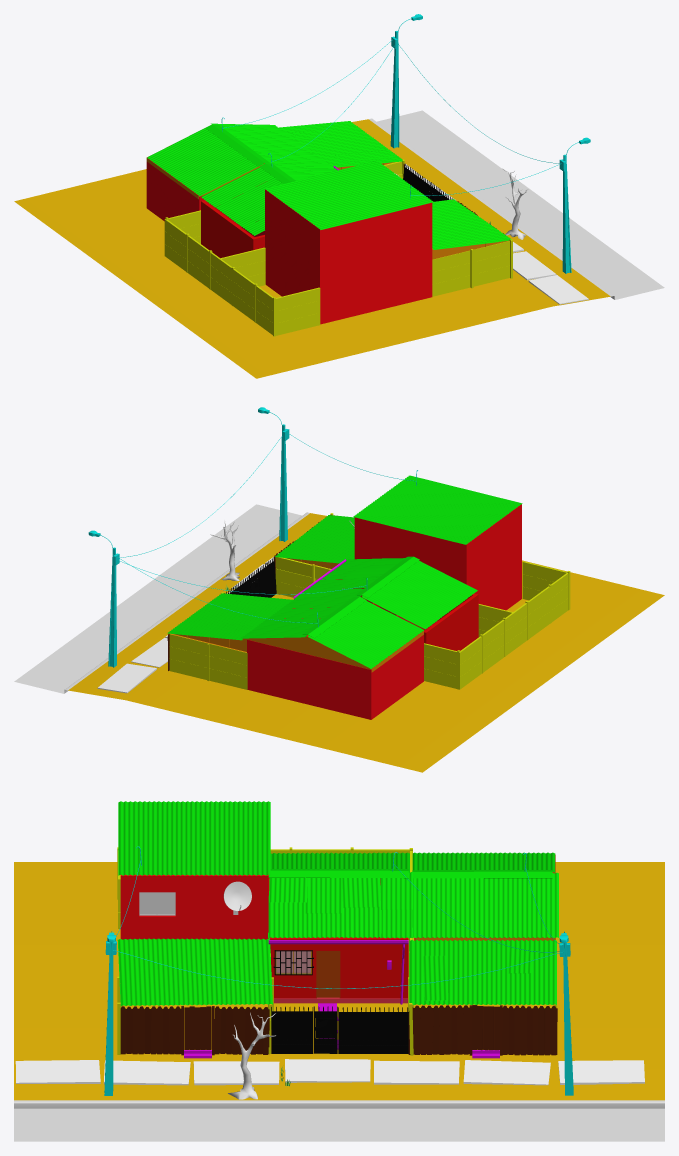
The model's file is DealerHouse1.fbx.
3 views of the same model, one above another, from view 1: azimuth 30°, elevation 25°; view 2: azimuth 150°, elevation 25°; view 3: azimuth 270°, elevation 25° (orthographic). The views are drawn at different scales.
Visible parts, largest first — view 1: Plane.001, FrontisWall.012, FrontisWall.039, RejaLeftSide.002, FrontisWall.018, RejaLeftSide.003, FrontisWall.015, FrontisWall.025, FrontisWall, Plane.012, Cube.017, RejaLeftSide.005 (+10 smaller); view 2: Plane.001, Cube.017, FrontisWall.012, FrontisWall.039, RejaLeftSide.002, FrontisWall.018, RejaLeftSide.004, FrontisWall.015, FrontisWall.025, FrontisWall, Plane.012, ConcreteAbove.001 (+15 smaller); view 3: Plane.001, Plane.012, FrontisWall.039, FrontisWall.025, FrontisWall.012, FrontisWall.015, FrontisWall, FrontisWall.027, FrontisWall.016, FrontisWall.017, FrontisWall.037, Cube.045 (+37 smaller).
Boxes of the visible parts, x1,y1,x2,y2 form: Plane.001: (14, 110, 664, 378); FrontisWall.012: (265, 189, 432, 324); FrontisWall.039: (265, 160, 433, 229); RejaLeftSide.002: (164, 219, 272, 334); FrontisWall.018: (147, 125, 263, 196); RejaLeftSide.003: (432, 241, 509, 296); FrontisWall.015: (279, 121, 402, 167); FrontisWall.025: (432, 199, 511, 249); FrontisWall: (201, 194, 264, 258); Plane.012: (405, 164, 588, 305); Cube.017: (146, 159, 204, 221); RejaLeftSide.005: (276, 287, 320, 335); Plane.001: (14, 504, 664, 772); Cube.017: (247, 608, 423, 719); FrontisWall.012: (354, 504, 521, 610); FrontisWall.039: (353, 475, 522, 544); RejaLeftSide.002: (459, 573, 568, 689); FrontisWall.018: (307, 600, 423, 668); RejaLeftSide.004: (169, 634, 247, 689); FrontisWall.015: (167, 593, 292, 640); FrontisWall.025: (275, 515, 354, 563); FrontisWall: (336, 579, 478, 650); Plane.012: (97, 553, 278, 693); ConcreteAbove.001: (242, 607, 423, 672); Plane.001: (14, 862, 664, 1141); Plane.012: (15, 1059, 644, 1085); FrontisWall.039: (118, 801, 270, 875); FrontisWall.025: (117, 938, 272, 1005); FrontisWall.012: (120, 874, 268, 939); FrontisWall.015: (409, 940, 556, 1004); FrontisWall: (268, 878, 408, 998); FrontisWall.027: (487, 872, 558, 937); FrontisWall.016: (120, 1006, 181, 1054); FrontisWall.017: (408, 1005, 469, 1054); FrontisWall.037: (502, 1005, 557, 1055); Cube.045: (339, 1013, 408, 1052).
Bounding box in the file's own units: 2440 × 757 × 2508.
